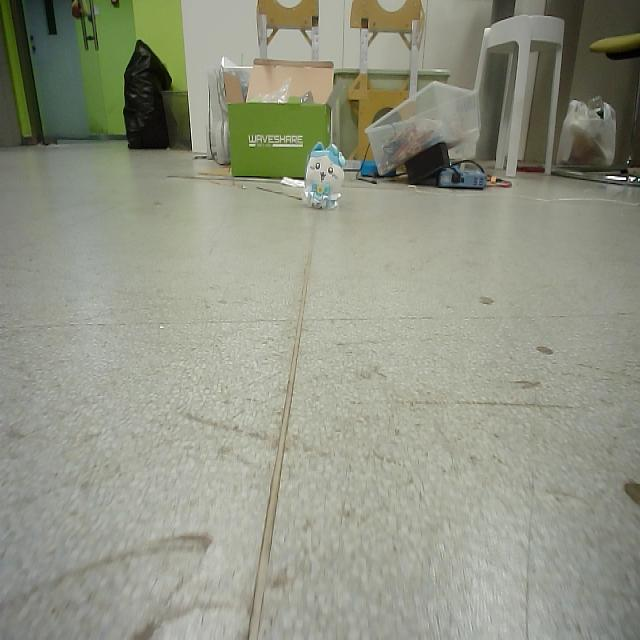xiaoba: (300, 139, 346, 209)
